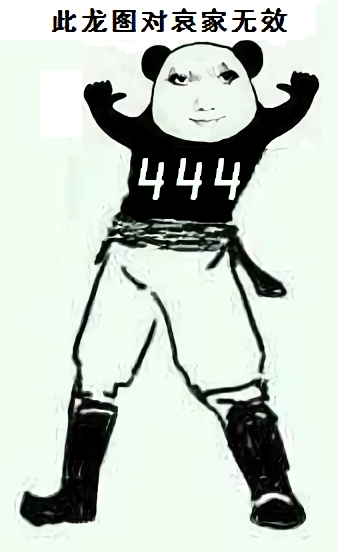dragon: (165, 60, 241, 129)
